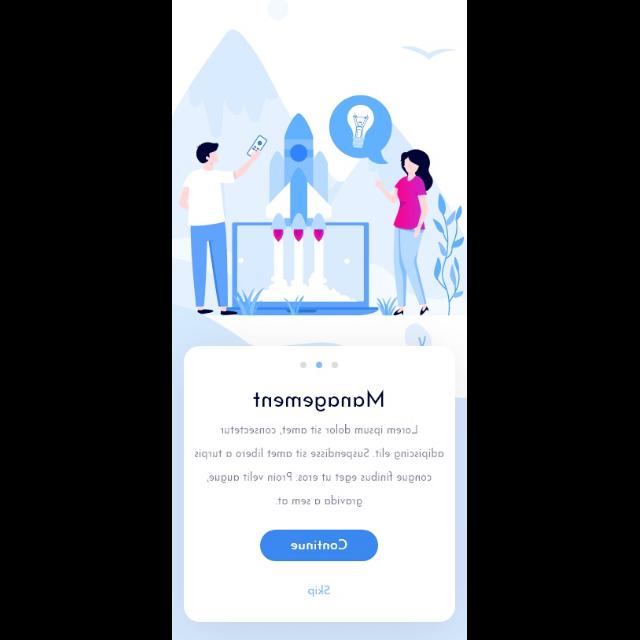image: (173, 1, 467, 346)
pageindicator: (299, 361, 339, 369)
panel: (184, 346, 456, 622)
text: (194, 423, 443, 507), (254, 390, 384, 412), (308, 584, 330, 598)
textbutton: (260, 530, 378, 560)
